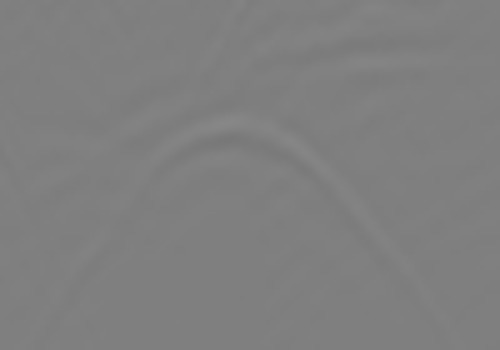hyperbola: (51, 113, 425, 307)
